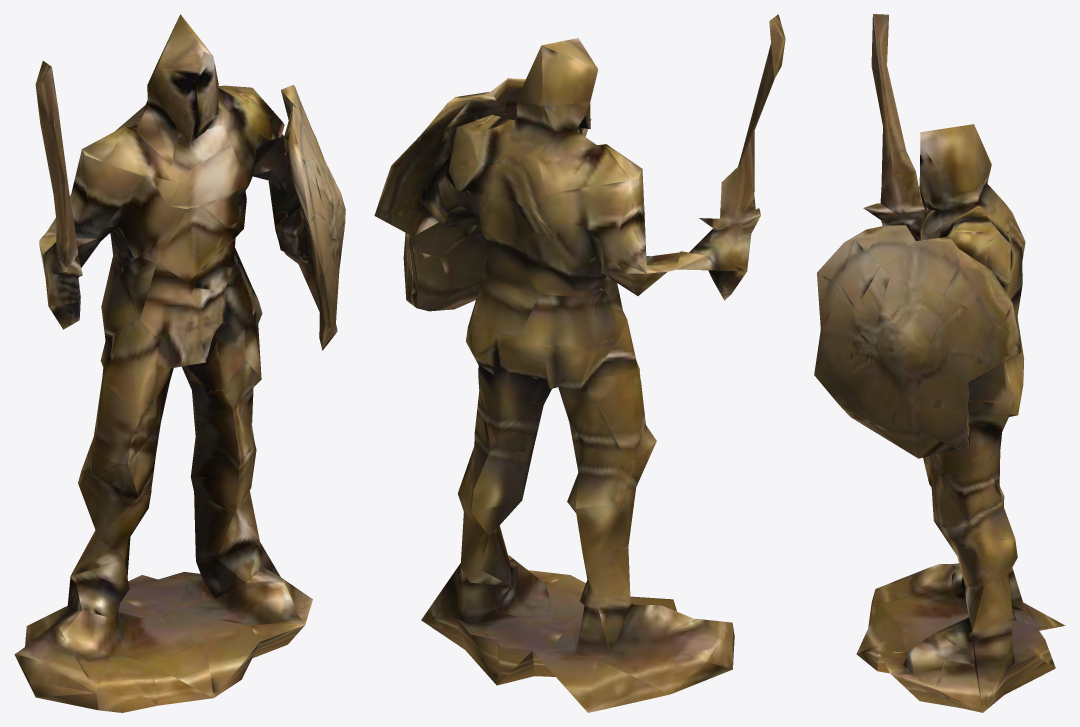
File: obj_statue.glb
3 views of the same model, side by side, from view 1: azimuth 30°, elevation 25°; view 2: azimuth 150°, elevation 25°; view 3: azimuth 270°, elevation 25° (orthographic). The views are drawn at different scales.
Visible parts, largest first — view 1: Statue; view 2: Statue; view 3: Statue.
Boxes of the visible parts, <box> form: Statue: <box>14,14,345,712</box>; Statue: <box>374,14,785,712</box>; Statue: <box>814,14,1065,712</box>.
Size of the model in its own units: 1.04 by 1.9 by 0.7542.
Materials: 1 (1 with a texture image).
